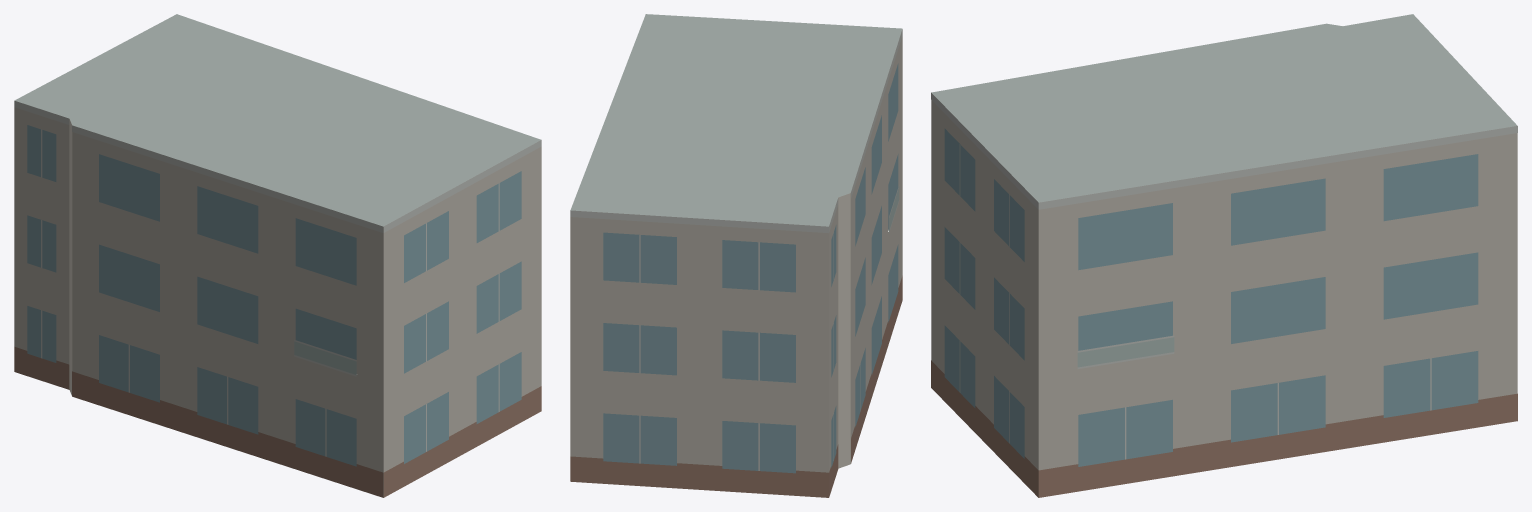
File: survey-upis-32750211.glb
3 views of the same model, side by side, from view 1: azimuth 30°, elevation 25°; view 2: azimuth 150°, elevation 25°; view 3: azimuth 270°, elevation 25° (orthographic). The views are drawn at different scales.
Visible parts, largest first — view 1: survey-upis-32750211.tmp; view 2: survey-upis-32750211.tmp; view 3: survey-upis-32750211.tmp.
Boxes of the visible parts, x1,y1,x2,y2 form: survey-upis-32750211.tmp: (14, 14, 541, 497); survey-upis-32750211.tmp: (570, 14, 902, 497); survey-upis-32750211.tmp: (931, 14, 1517, 497).
Bounding box in the file's own units: 13.85 × 10.1 × 18.2.
